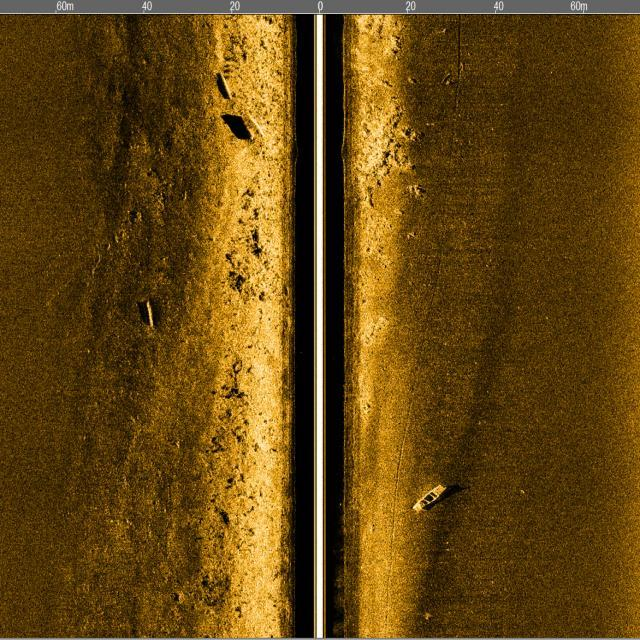shipwreck: (408, 471, 448, 520)
